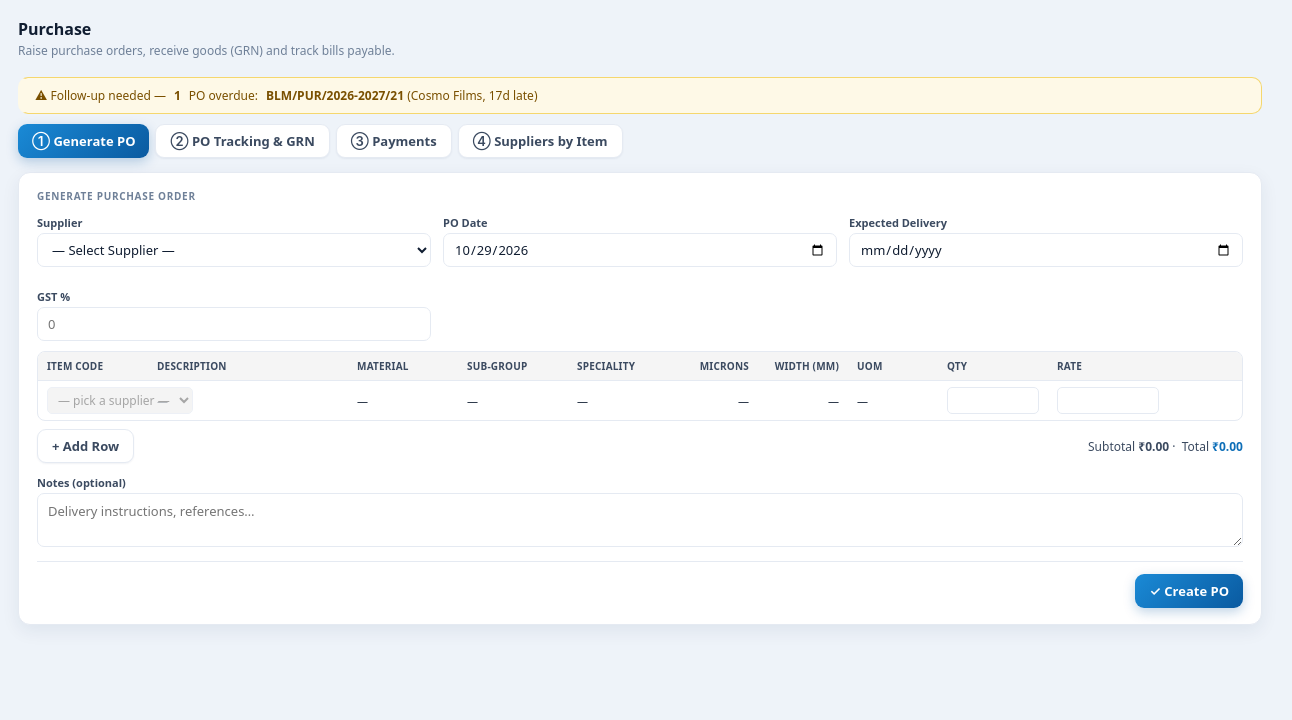
it: Issues 17.10 §7 — GRN Entry: radio selection, actions above the table › Close PO on the toolbar asks first, then force-closes the picked PO; it leaves the open list and the selection clears
The image size is (1292, 720).
Click the button "② PO Tracking & GRN" at (243, 141), box x1=156 y1=124 x2=330 y2=158
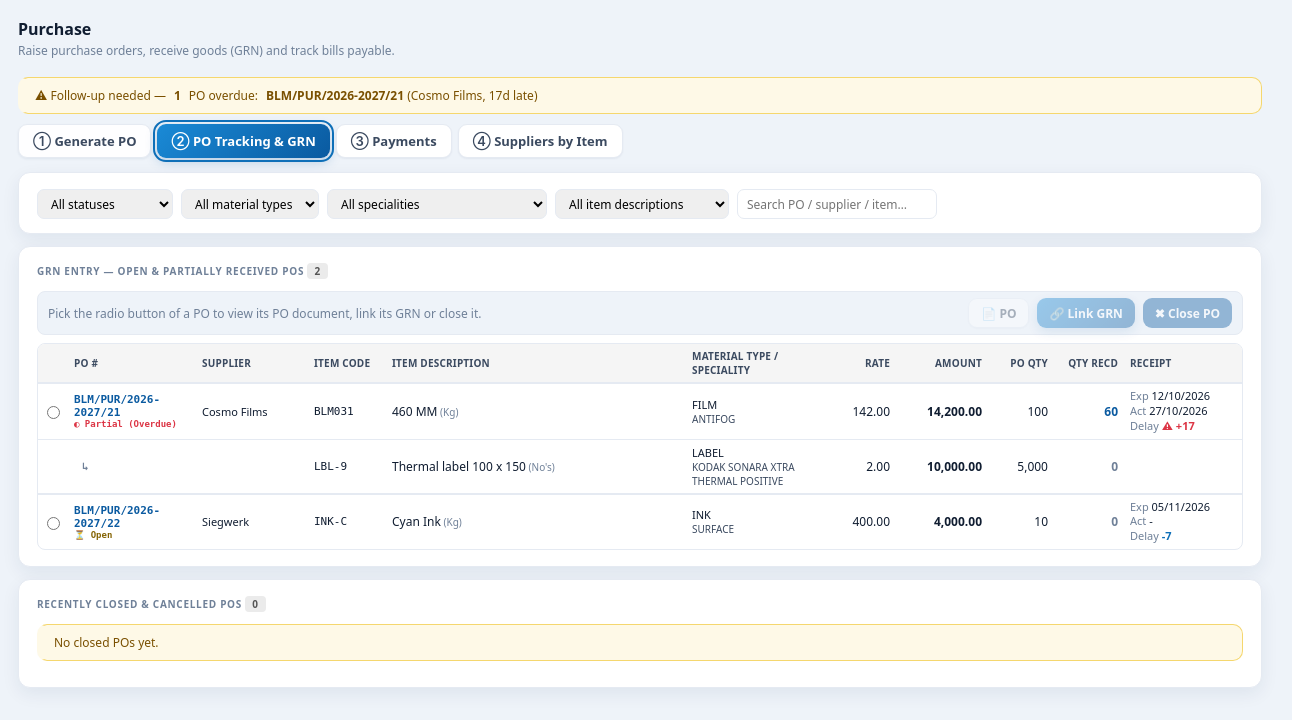
Click the radio button named "Select PO BLM/PUR/2026-2027/22" at (53, 523), box x1=46 y1=517 x2=60 y2=530
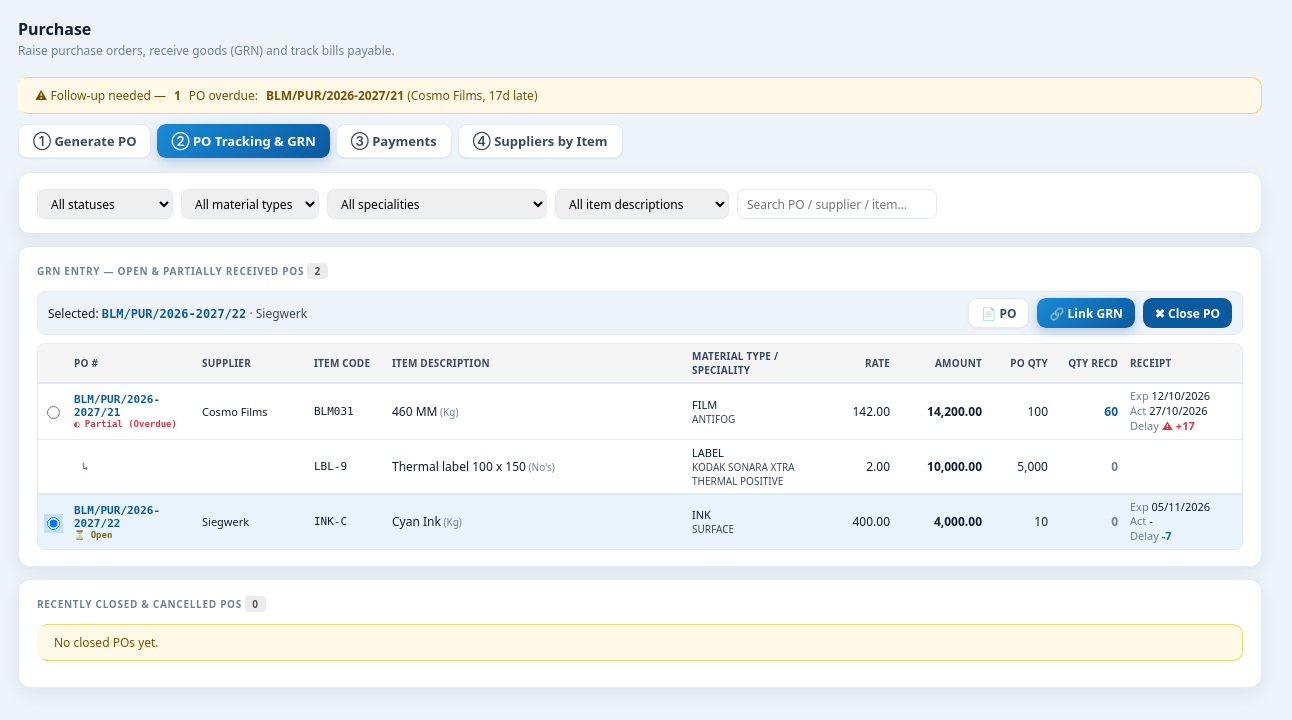
Click the button "✖ Close PO" at (1187, 313), box x1=1143 y1=298 x2=1232 y2=328
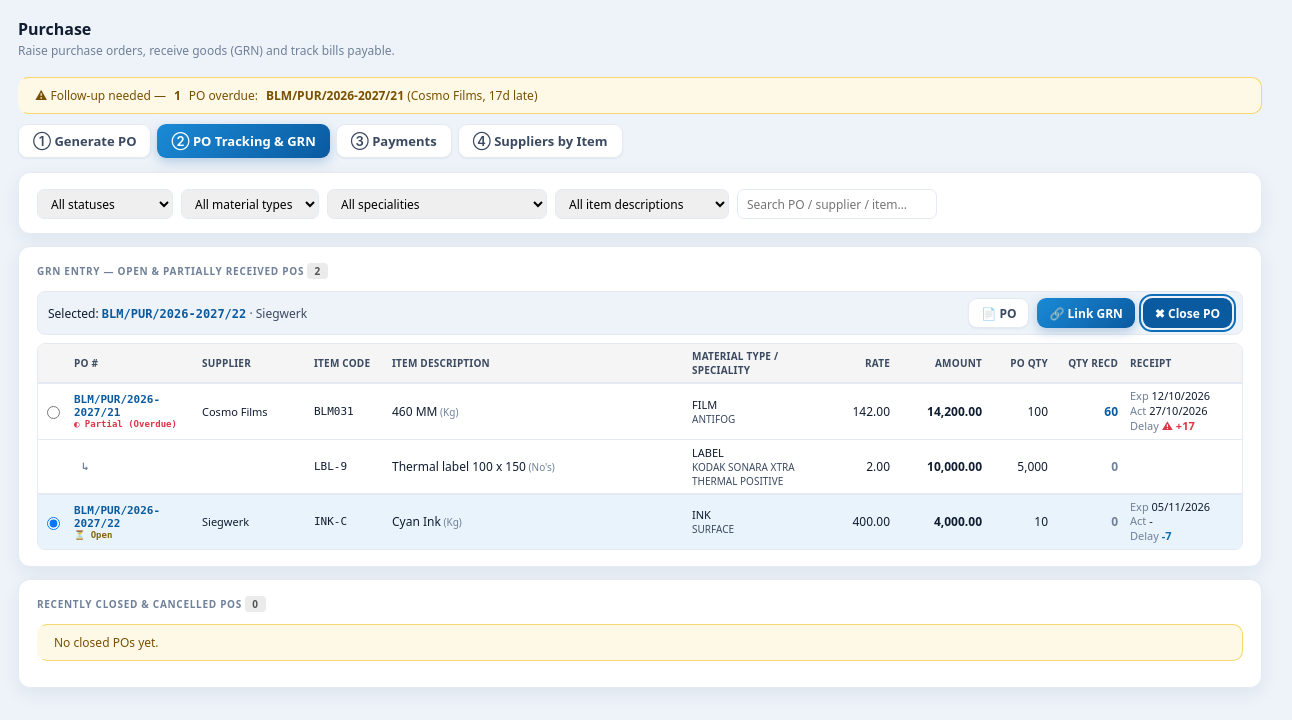
Click the button "✖ Close PO" at (1187, 313), box x1=1143 y1=298 x2=1232 y2=328
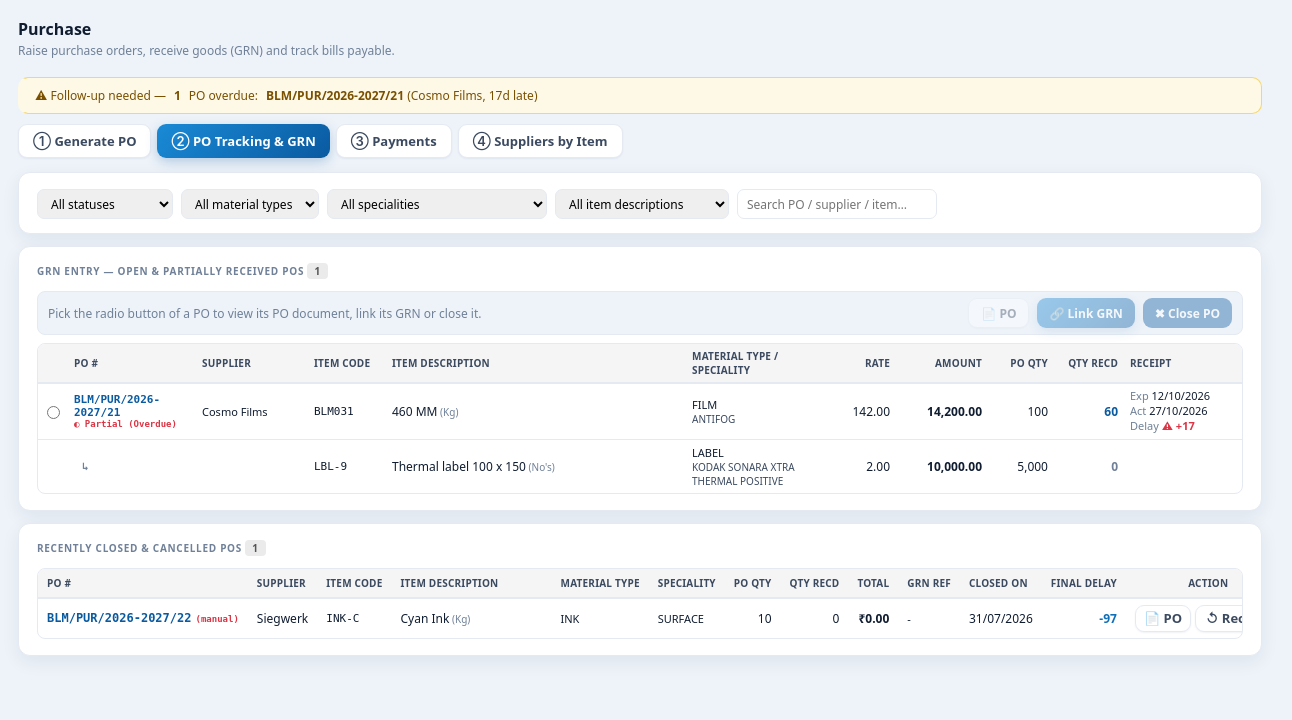
Check: the text "BLM/PUR/2026-2027/22" is shown, box x1=47 y1=611 x2=192 y2=625
Check: the button "✖ Close PO" is disabled, box x1=1143 y1=298 x2=1232 y2=328
Check: the element named "Selected PO actions" shows "Pick the radio button", box x1=48 y1=304 x2=482 y2=322
